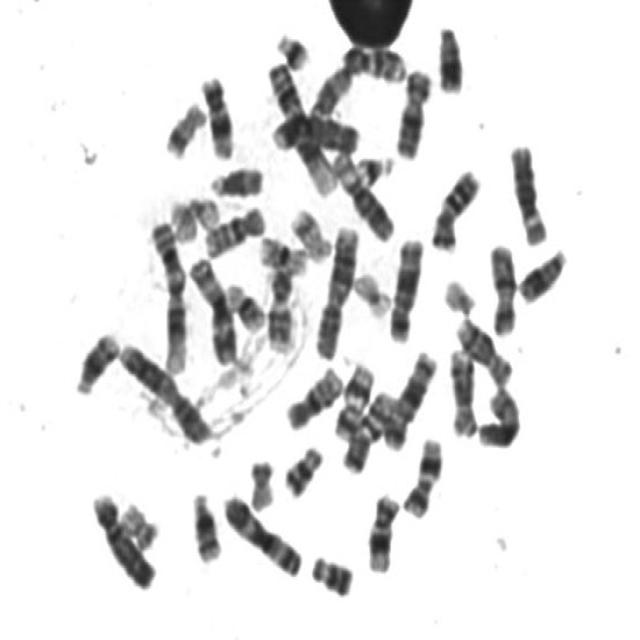A1: (262, 52, 342, 196), (143, 210, 192, 376)
A2: (113, 331, 217, 446), (310, 215, 363, 362)
A3: (218, 484, 307, 580), (185, 246, 241, 366)
B4: (86, 482, 161, 592), (266, 104, 364, 156)
B5: (378, 340, 441, 450), (384, 225, 428, 344)
C10: (280, 354, 348, 432), (199, 195, 270, 260)
C11: (398, 426, 448, 520), (329, 353, 378, 442)
C12: (196, 66, 238, 161), (362, 484, 404, 575)
C6: (327, 143, 399, 243), (505, 132, 554, 246)
C7: (338, 382, 400, 474), (426, 159, 485, 254)
C8: (450, 308, 518, 388), (443, 339, 482, 438)
C9: (261, 257, 299, 354), (336, 39, 405, 86)
D13: (514, 237, 572, 305), (432, 14, 468, 94)
D14: (70, 320, 124, 397), (186, 481, 227, 565)
D15: (308, 66, 356, 137), (205, 156, 269, 198)
E16: (254, 224, 312, 276), (221, 272, 270, 333)
E17: (285, 197, 336, 263), (163, 102, 209, 161)
E18: (278, 434, 328, 500), (305, 544, 358, 599)
F19: (348, 260, 397, 320), (185, 186, 223, 236)
F20: (115, 493, 163, 551), (243, 448, 280, 512)
G21: (271, 21, 315, 72), (350, 143, 398, 188)
G22: (438, 269, 481, 315), (166, 191, 202, 243)
X: (390, 57, 436, 161), (470, 386, 533, 458), (484, 234, 521, 338)
